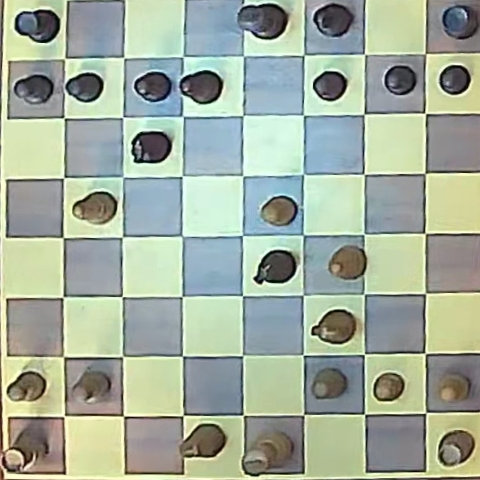black-bishop: (312, 3, 353, 37), (179, 70, 221, 103)
black-king: (237, 3, 286, 39)
black-knight: (254, 249, 296, 285), (131, 131, 171, 164)
black-pawn: (14, 74, 54, 104), (134, 71, 172, 102), (66, 72, 104, 102), (312, 70, 347, 100), (439, 64, 471, 95), (384, 65, 417, 95)
black-rook: (15, 9, 60, 43), (441, 5, 478, 39)
white-bishop: (73, 191, 117, 224), (328, 246, 367, 281)
white-king: (243, 430, 293, 475)
white-knight: (179, 424, 226, 458), (311, 310, 355, 345)
white-pawn: (72, 370, 111, 405), (6, 371, 47, 402), (311, 368, 347, 399), (260, 196, 297, 226), (373, 372, 405, 401), (438, 374, 469, 403)
white-rook: (3, 428, 49, 471), (437, 431, 474, 467)
